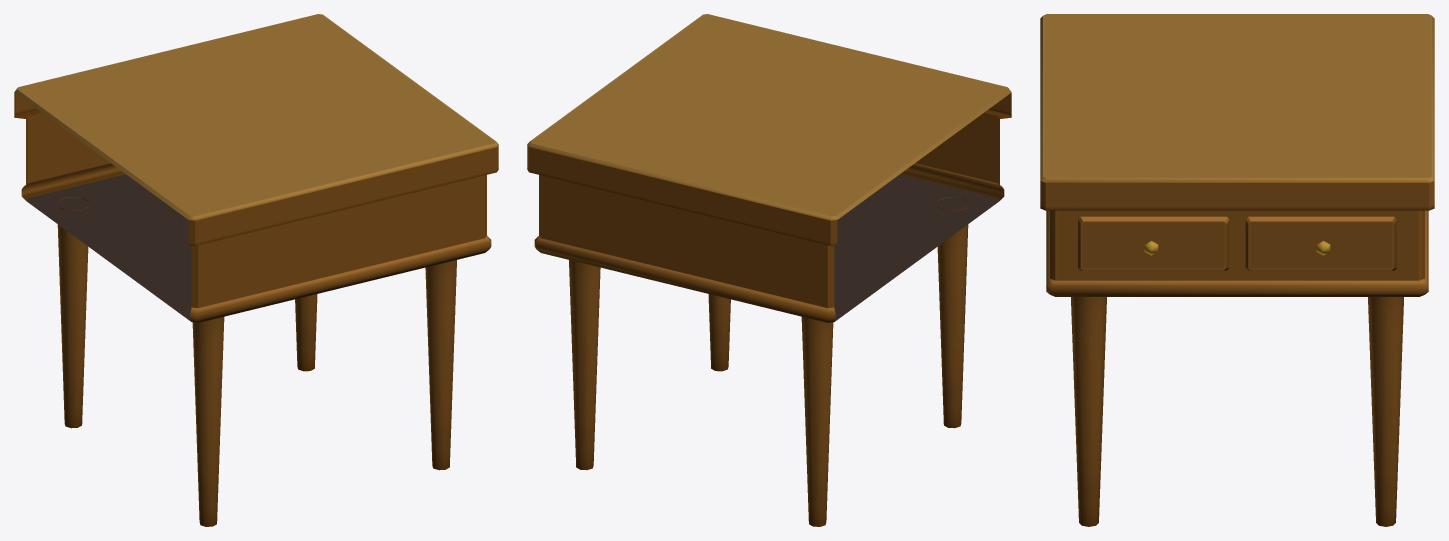
Rendered from jia_guizi.FBX.
The picture shows the model from 3 angles, left to right: view 1: azimuth 30°, elevation 25°; view 2: azimuth 150°, elevation 25°; view 3: azimuth 270°, elevation 25°; orthographic projection. The views are drawn at different scales.
Parts seen in each view (by area): view 1: jia_guizi; view 2: jia_guizi; view 3: jia_guizi.
Boxes of the visible parts, bbox=[...] form: jia_guizi: bbox=[14, 14, 498, 526]; jia_guizi: bbox=[527, 14, 1011, 526]; jia_guizi: bbox=[1040, 14, 1434, 526].
Bounding box in the file's own units: 74.56 × 74.86 × 73.54.
